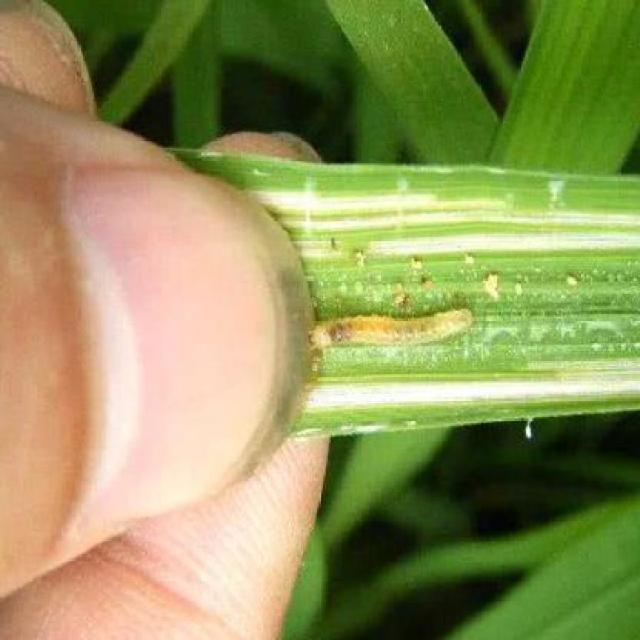leaf-folder: (302, 286, 487, 374)
